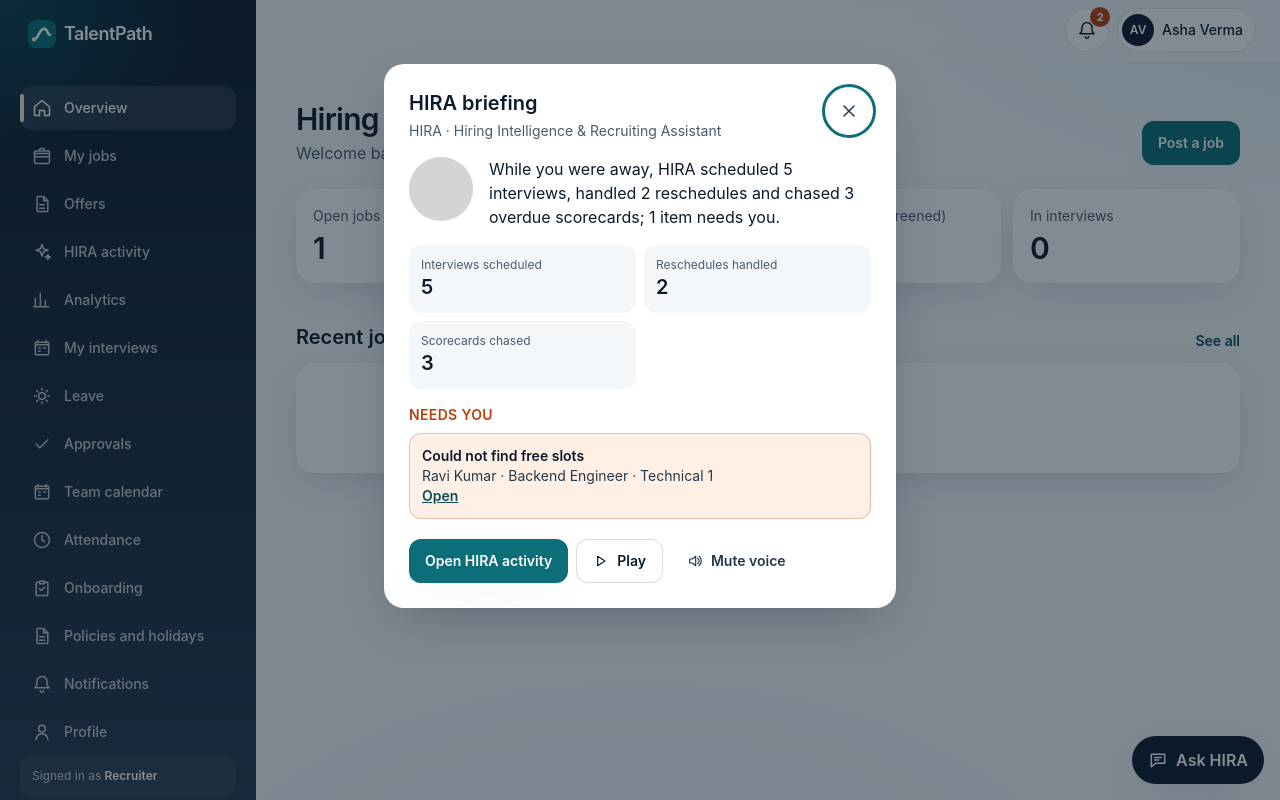
Test: HIRA login briefing › reads counts aloud, never names, and can be muted
Click the button with aria-label "Play spoken briefing". click: (620, 561)
box: 576,539 -> 663,583
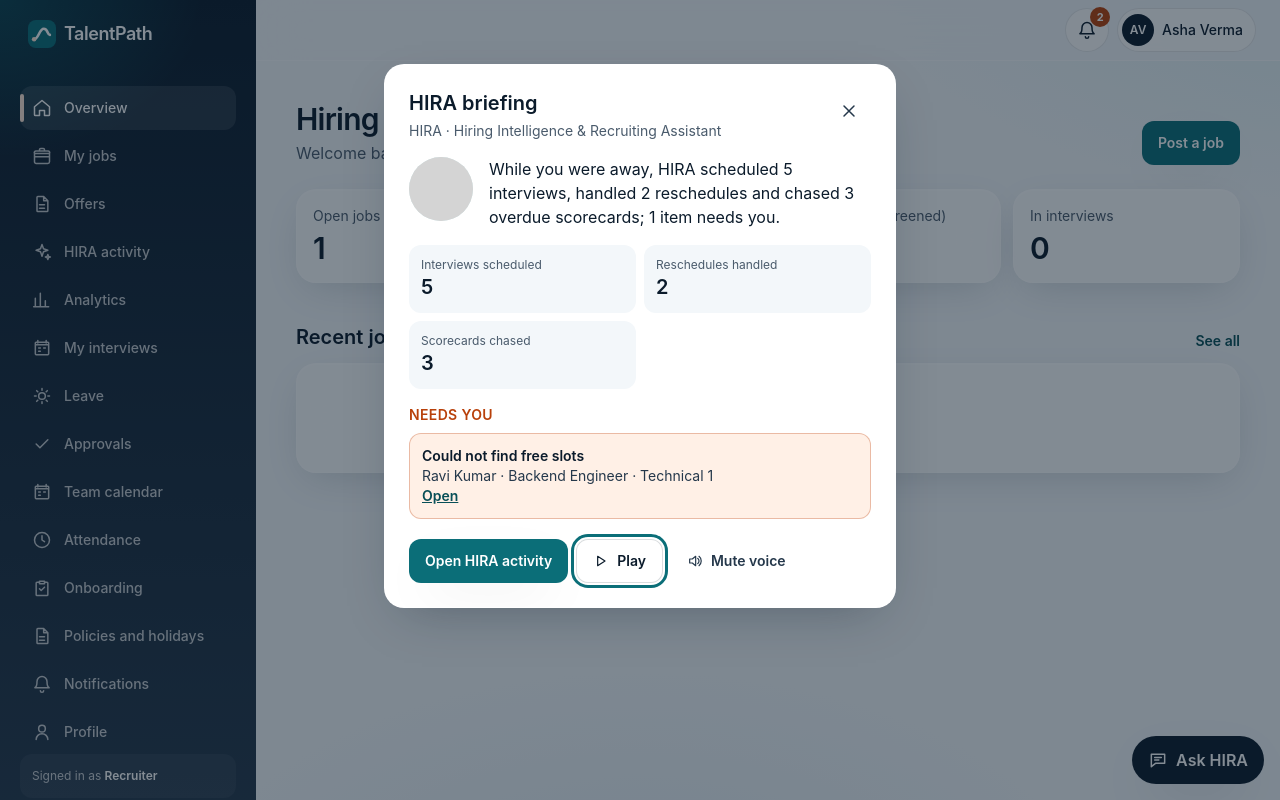
Click the button "Mute voice". click: (736, 561)
box: 671,539 -> 802,583
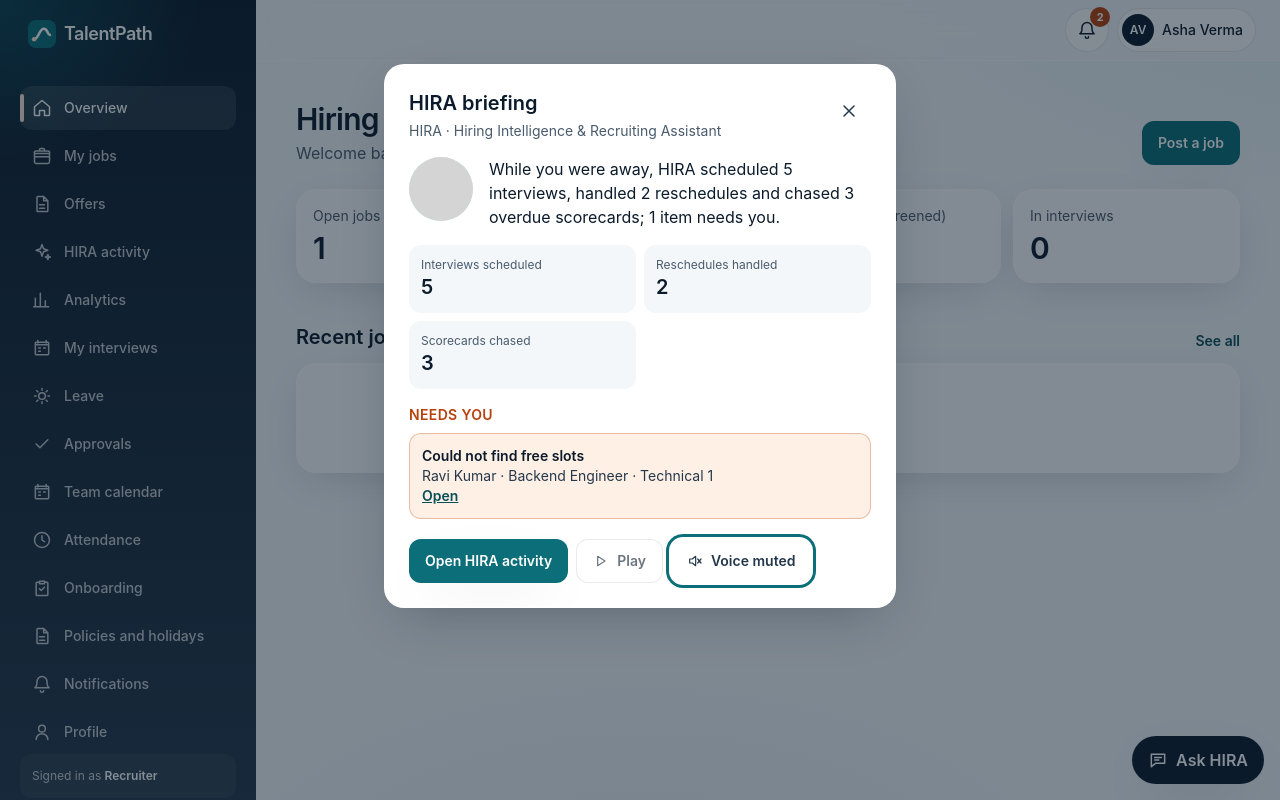
Expected: the button with aria-label "Play spoken briefing" is disabled, 576,539 -> 663,583
